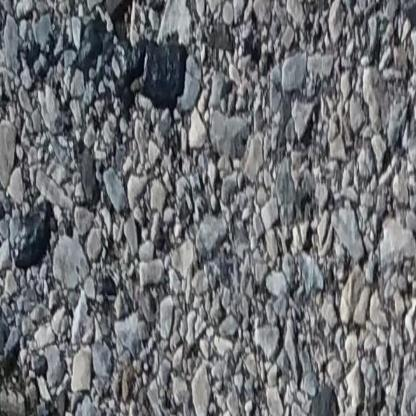Cracks: (0, 350, 59, 416)
